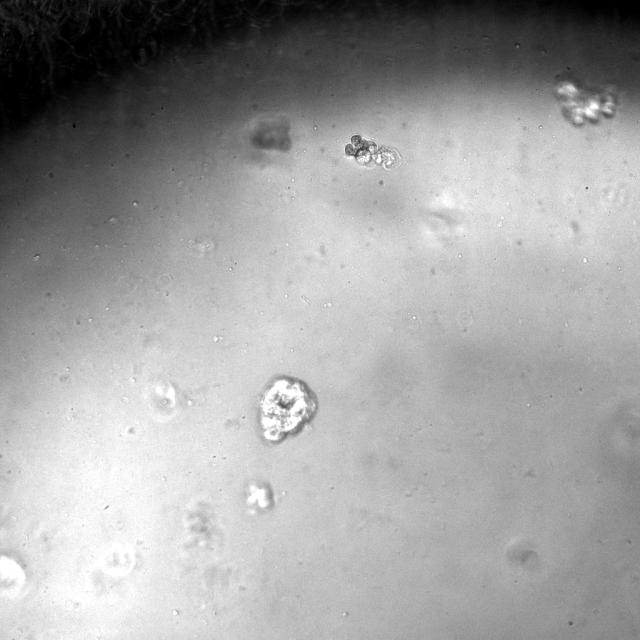organoid: (258, 375, 317, 443), (556, 81, 617, 125), (345, 134, 401, 170), (251, 116, 290, 152), (245, 478, 274, 514)
